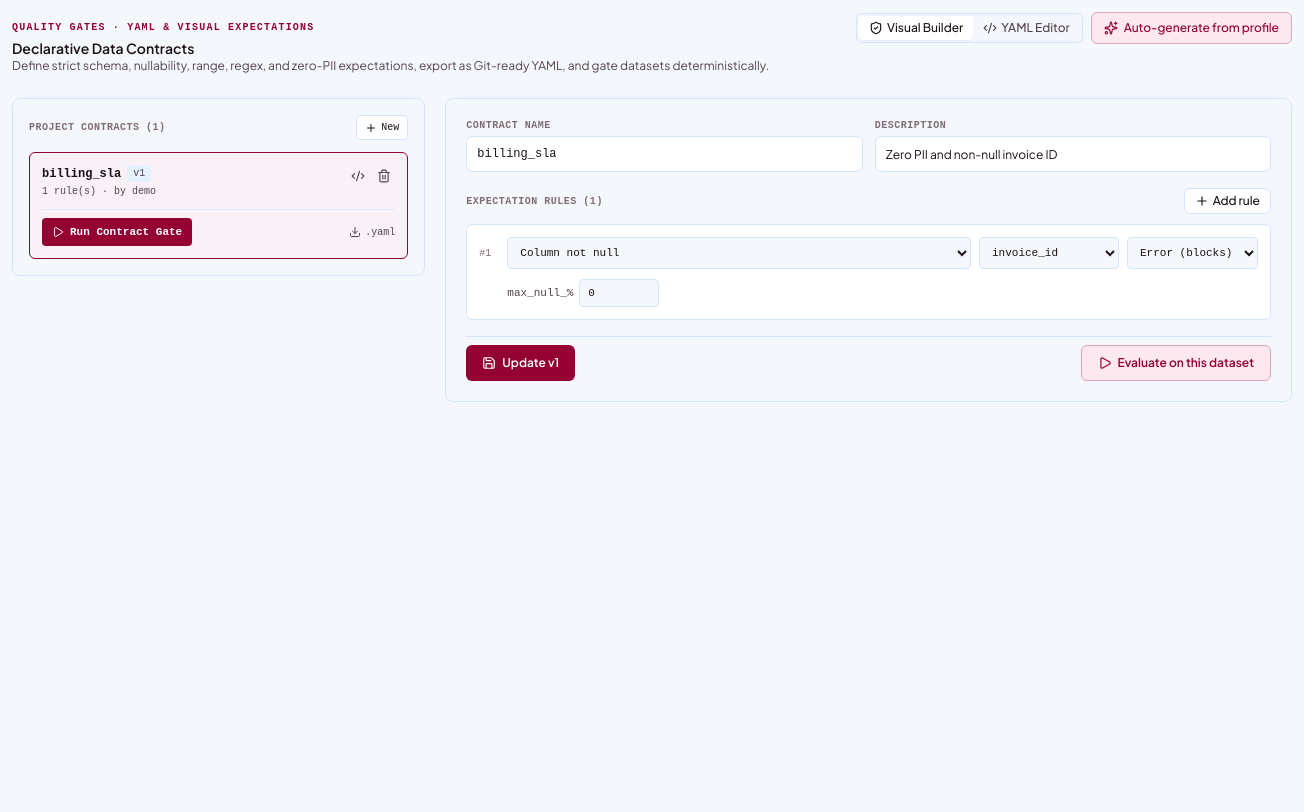
Test: ContractsPanel › auto-generates starter rules from profile and imports YAML
Expected: the text "billing_sla" is shown, [42,166,121,182]
Click the button "Auto-generate from profile": click(1191, 28) [1091,12,1292,44]
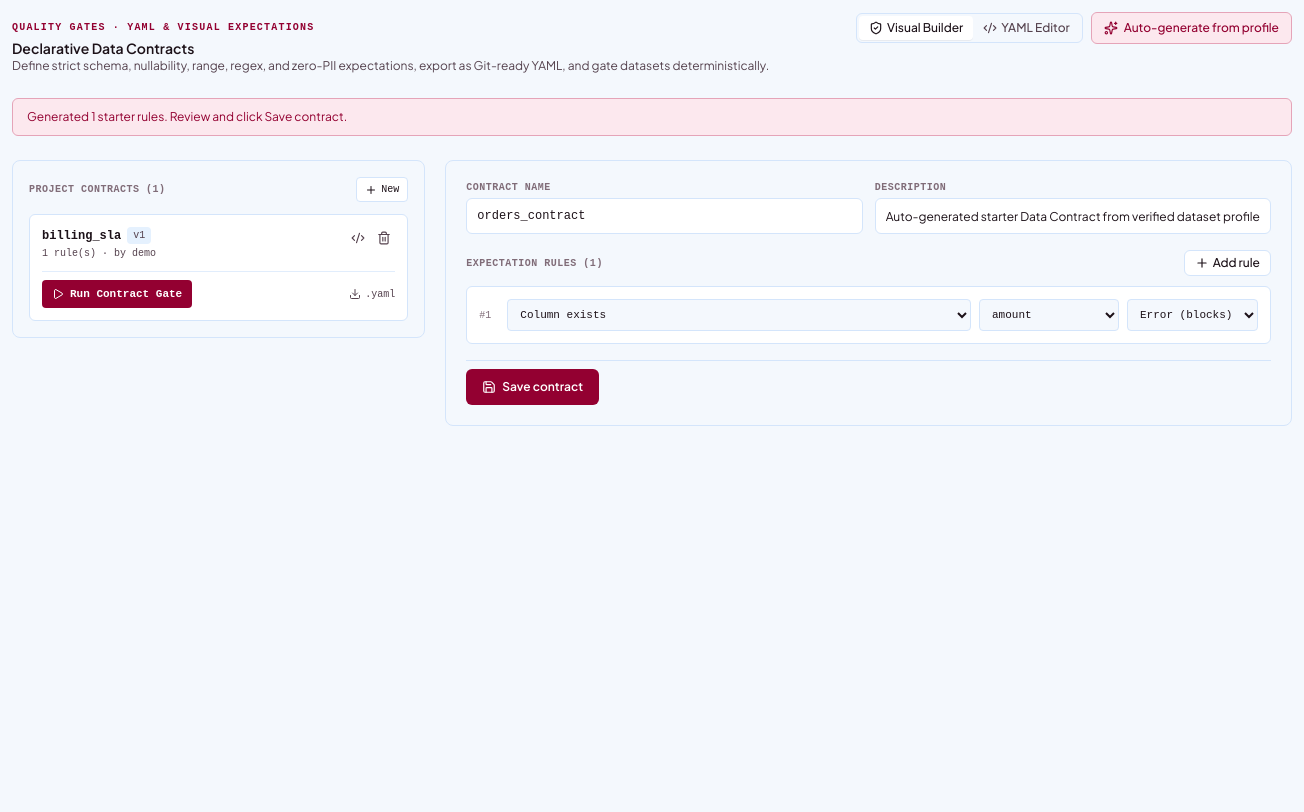
Now the text "Generated 1 starter rules. Review and click Save contract." is shown, box [12,98,1292,136]
Click the button "YAML Editor": click(1026, 28) [973,16,1080,40]
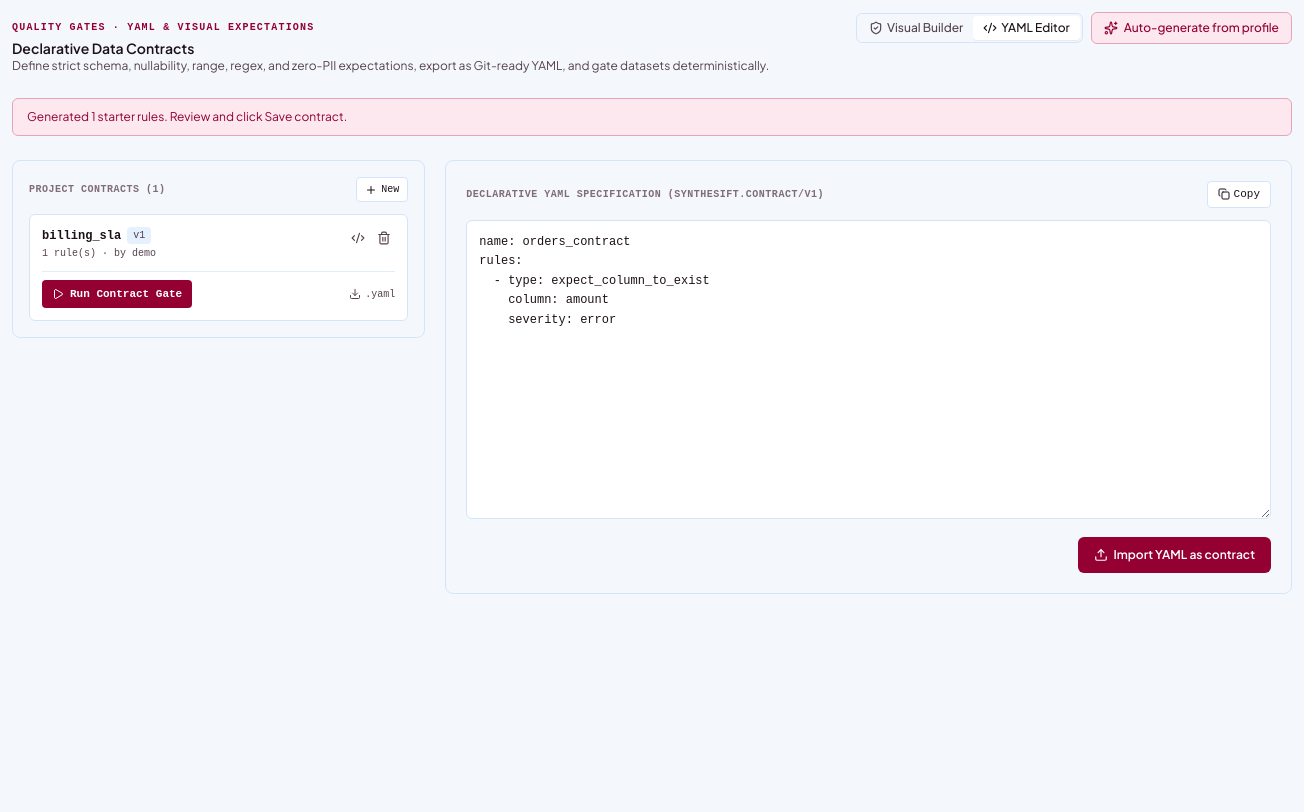
Click the button "Import YAML as contract": click(1174, 554) [1078,536,1271,572]
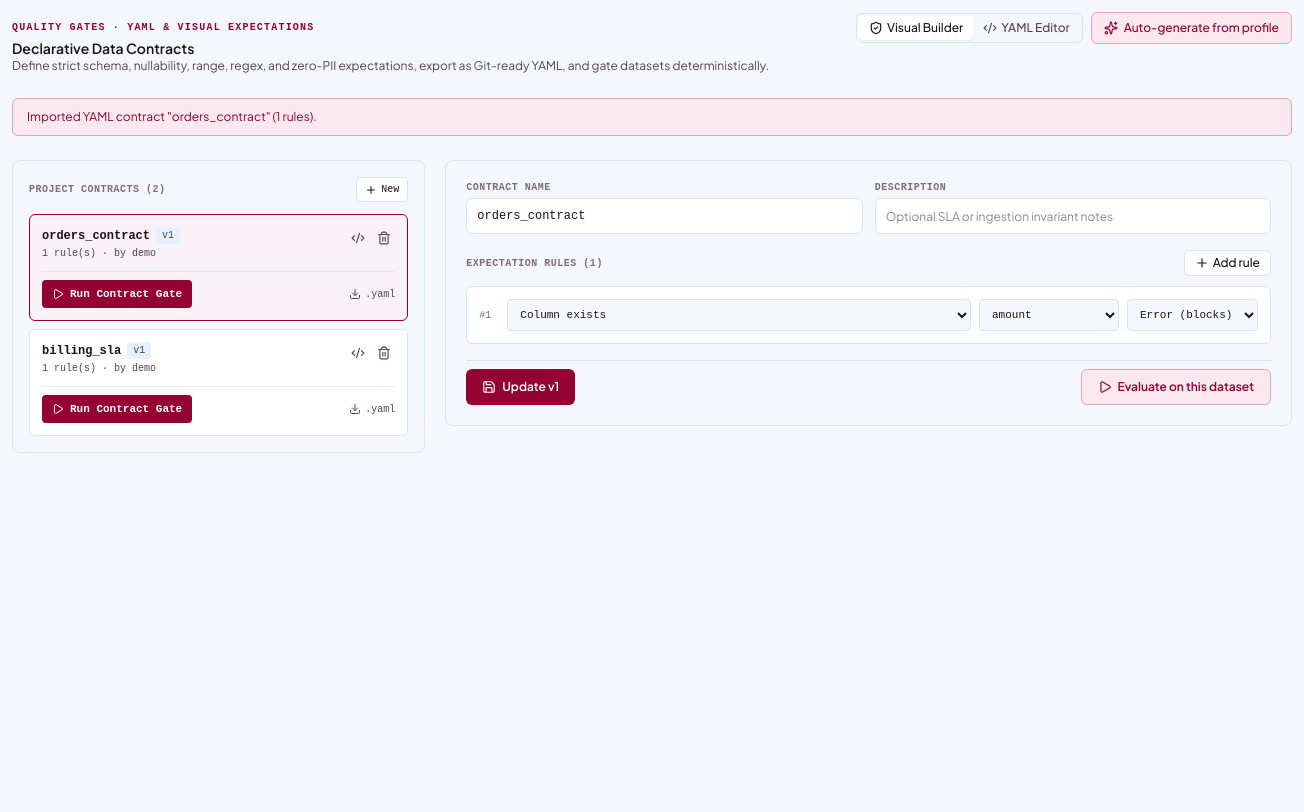
Now the text "Imported YAML contract \"orders_contract\" (1 rules)." is shown, box [12,98,1292,136]
